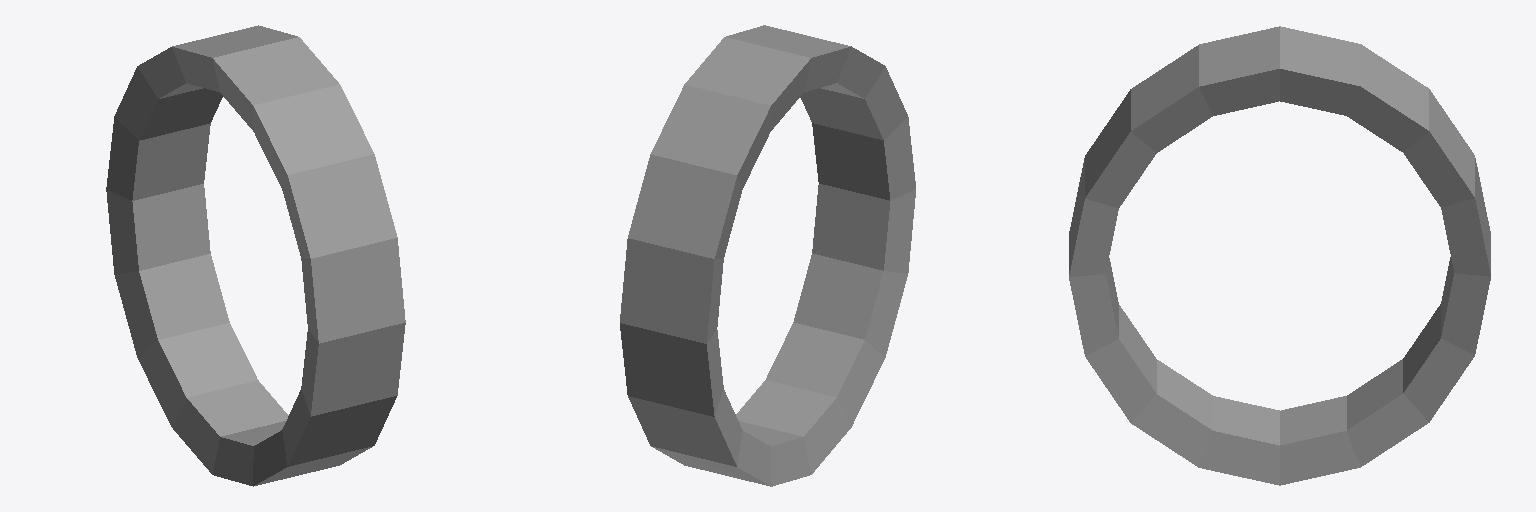
File: DynamoAnilloExt.obj
3 views of the same model, side by side, from view 1: azimuth 30°, elevation 25°; view 2: azimuth 150°, elevation 25°; view 3: azimuth 270°, elevation 25° (orthographic).
Visible parts, largest first — view 1: Sphere.008_Sphere.032; view 2: Sphere.008_Sphere.032; view 3: Sphere.008_Sphere.032.
Part boxes in pixels (left/top/right/bottom): Sphere.008_Sphere.032: left=106, top=25, right=405, bottom=486; Sphere.008_Sphere.032: left=620, top=25, right=915, bottom=486; Sphere.008_Sphere.032: left=1069, top=26, right=1490, bottom=485.
Bounding box in the file's own units: 0.5114 × 2.31 × 2.12.